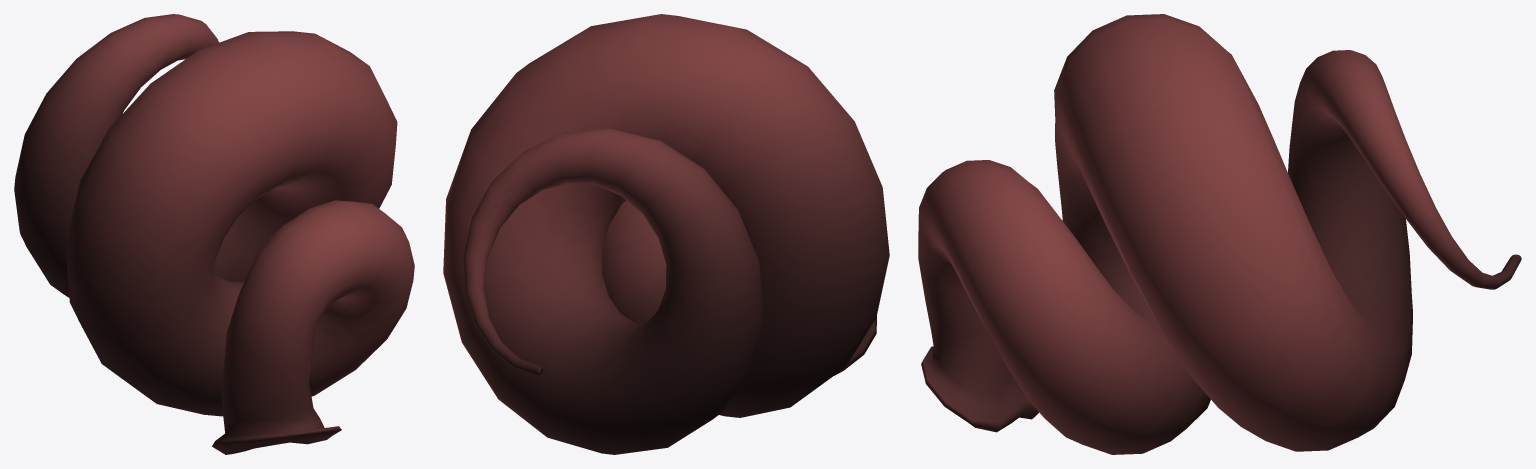
Rendered from spiral.glb.
3 views of the same model, side by side, from view 1: azimuth 30°, elevation 25°; view 2: azimuth 150°, elevation 25°; view 3: azimuth 270°, elevation 25° (orthographic). The views are drawn at different scales.
Visible parts, largest first — view 1: tongue; view 2: tongue; view 3: tongue.
Part boxes in pixels (x1=…): tongue: x1=14, y1=14, x2=414, y2=454; tongue: x1=443, y1=14, x2=889, y2=454; tongue: x1=918, y1=14, x2=1521, y2=454.
Bounding box in the file's own units: 0.0734 × 0.0709 × 0.0943.
1 material, 1 textured.
